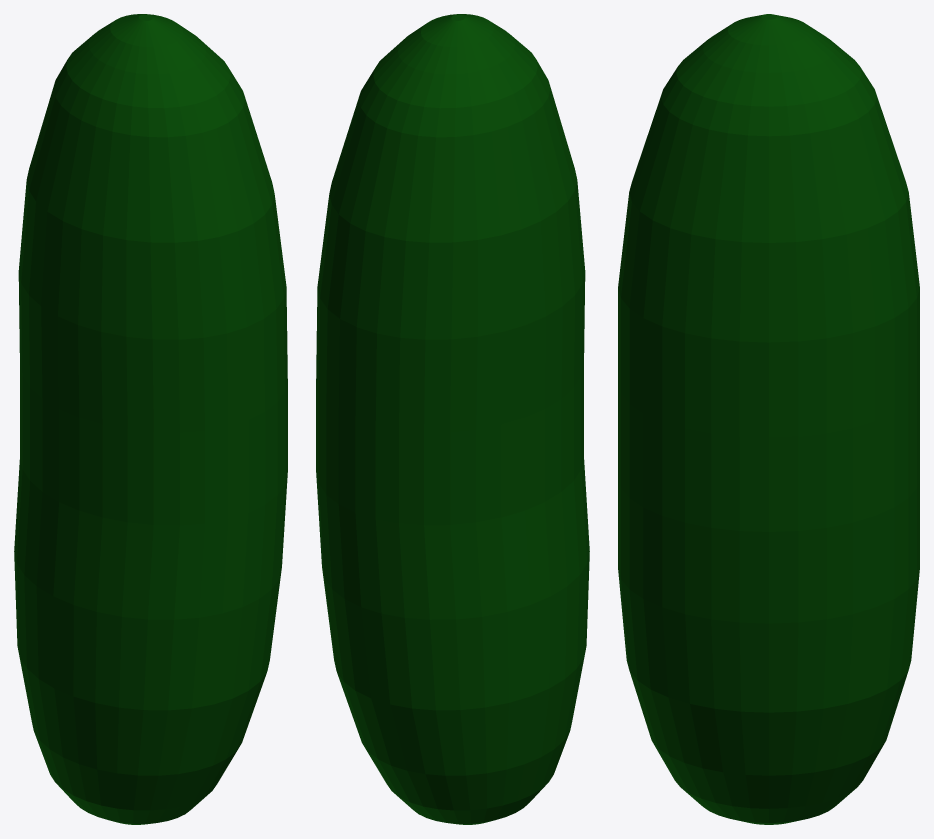
File: cucumber.fbx
The picture shows the model from 3 angles, left to right: view 1: azimuth 30°, elevation 25°; view 2: azimuth 150°, elevation 25°; view 3: azimuth 270°, elevation 25°; orthographic projection.
Visible parts, largest first — view 1: Cylinder; view 2: Cylinder; view 3: Cylinder.
Boxes of the visible parts, bbox=[...] form: Cylinder: bbox=[14, 14, 287, 824]; Cylinder: bbox=[316, 14, 589, 824]; Cylinder: bbox=[618, 14, 919, 824].
Size of the model in its own units: 93.01 by 311 by 105.
